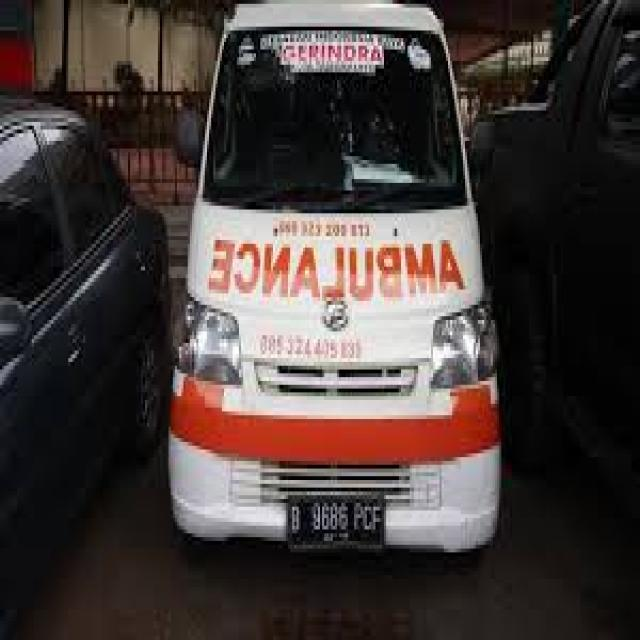emergency-vehicle: (168, 0, 499, 552)
